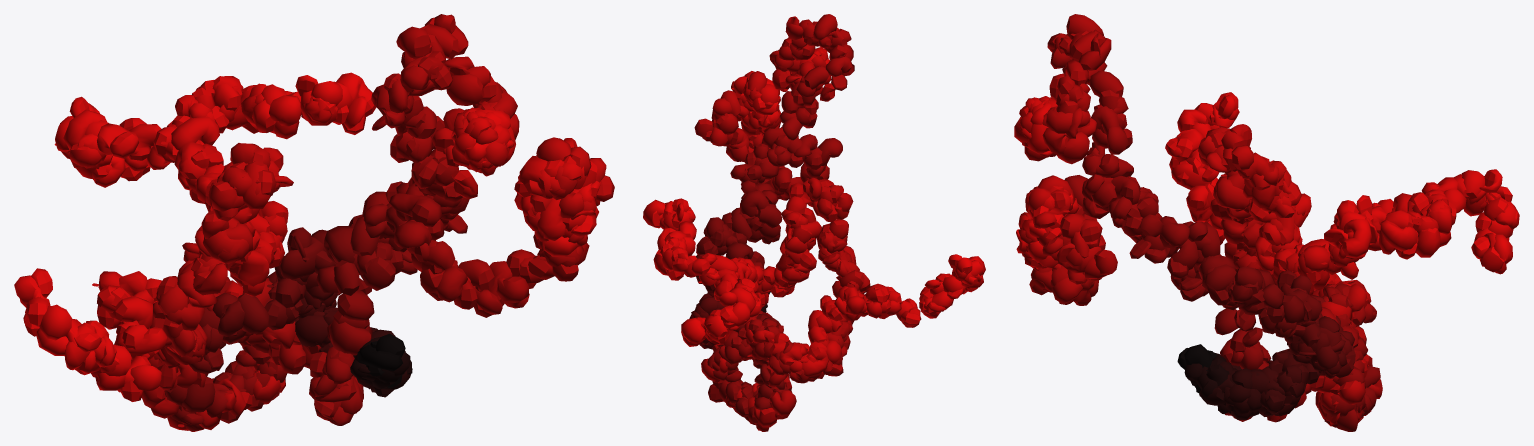
The model's file is Fractal_Paint_02.glb.
3 views of the same model, side by side, from view 1: azimuth 30°, elevation 25°; view 2: azimuth 150°, elevation 25°; view 3: azimuth 270°, elevation 25° (orthographic). The views are drawn at different scales.
Parts seen in each view (by area): view 1: Plane; view 2: Plane; view 3: Plane.
Boxes of the visible parts, x1,y1,x2,y2 form: Plane: [14, 14, 614, 431]; Plane: [643, 14, 985, 431]; Plane: [1014, 14, 1519, 431].
Bounding box in the file's own units: 3.84 × 3.73 × 3.94.
